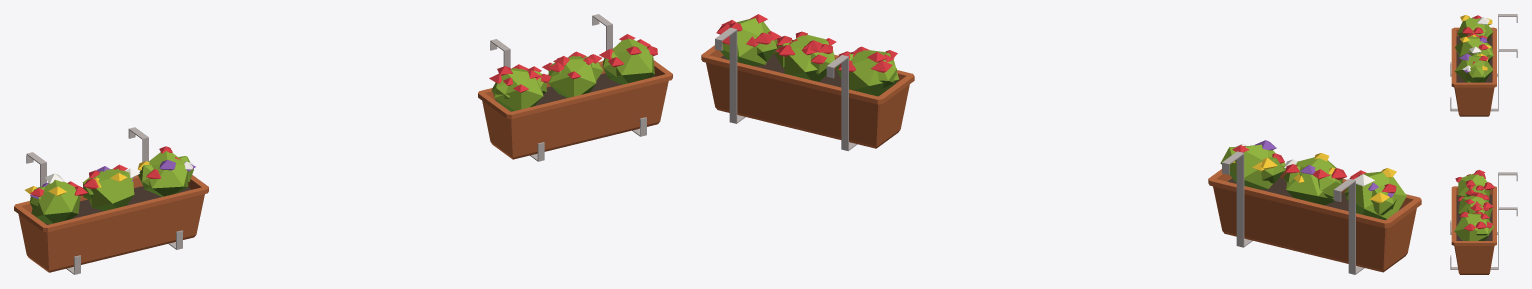
The model's file is SM_Fixture_RailPlanterFull_Box_364_Flower_01.gltf.
3 views of the same model, side by side, from view 1: azimuth 30°, elevation 25°; view 2: azimuth 150°, elevation 25°; view 3: azimuth 270°, elevation 25° (orthographic). The views are drawn at different scales.
Visible parts, largest first — view 1: SM_Fixture_RailPlanterFull_Box_364_Flower_01; view 2: SM_Fixture_RailPlanterFull_Box_364_Flower_01; view 3: SM_Fixture_RailPlanterFull_Box_364_Flower_01.
Boxes of the visible parts, bbox=[...] form: SM_Fixture_RailPlanterFull_Box_364_Flower_01: bbox=[14, 14, 672, 274]; SM_Fixture_RailPlanterFull_Box_364_Flower_01: bbox=[701, 14, 1421, 274]; SM_Fixture_RailPlanterFull_Box_364_Flower_01: bbox=[1450, 14, 1517, 274].
Bounding box in the file's own units: 2.46 × 0.3225 × 0.3265.
Materials: 1 (1 with a texture image).
